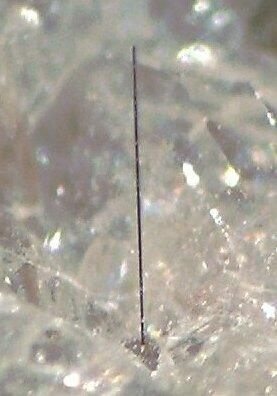pyrite: (133, 47, 144, 342)
